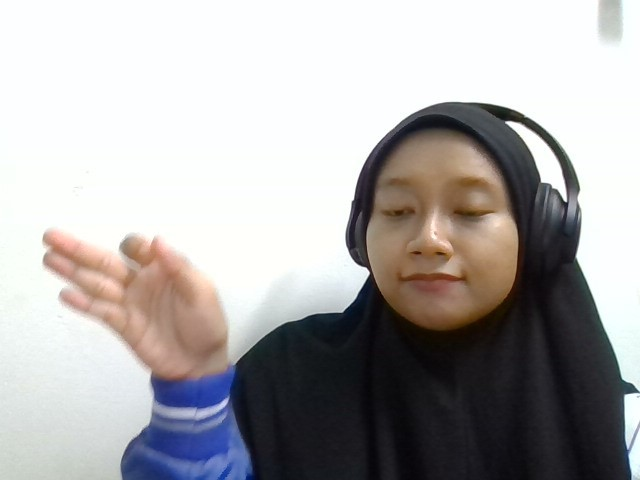Tudung: (43, 225, 230, 380)
